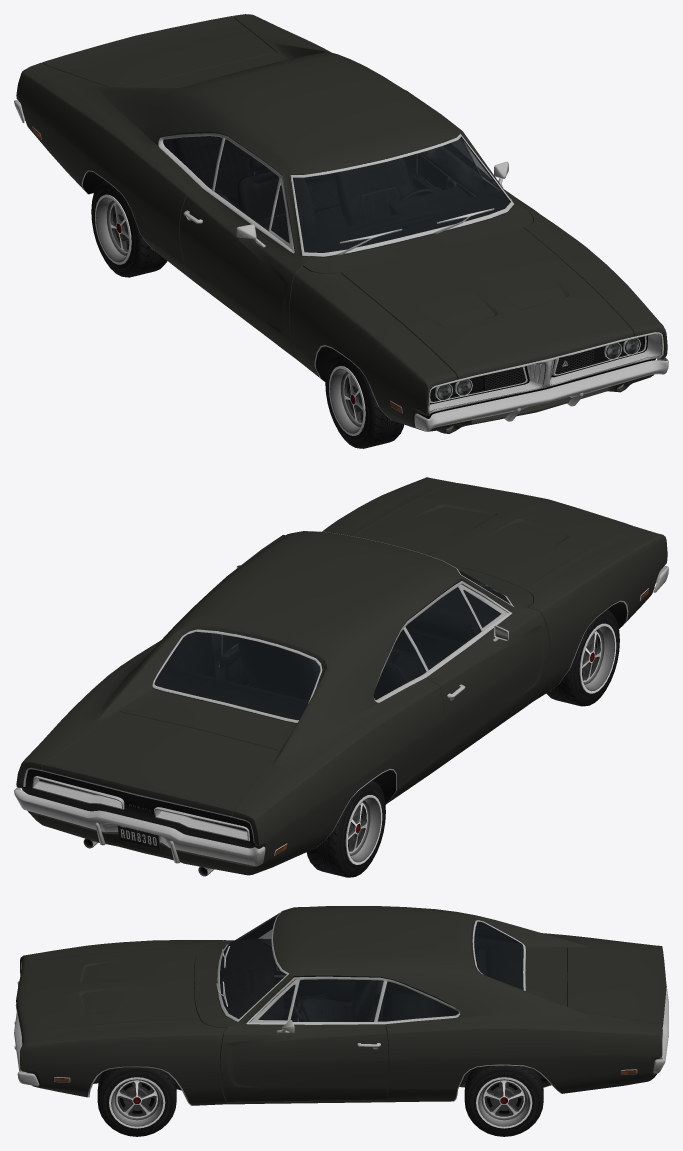
The model's file is dodge_charger_69.glb.
3 views of the same model, one above another, from view 1: azimuth 30°, elevation 25°; view 2: azimuth 150°, elevation 25°; view 3: azimuth 270°, elevation 25° (orthographic). The views are drawn at different scales.
Visible parts, largest first — view 1: Duke69_Body_Duke69_bodymat_0, Duke69_Hood_Duke69_bodymat_0, Duke69_Interior_UCB_Interiors_2_0, Duke69_Windshield_UCB_Lights_and_Glass_Transperent_0, Duke69_Bottom_UCB_BOTTOM_LT_0, Duke69_Trunkdoor_Duke69_bodymat_0, Duke69_WhellStock_FR_RB1c_Tire_1k_0, Duke69_Bumper_Front_UCB_BOTTOM_LT_0, Duke69_WhellStock_RR_RB1c_Tire_1k_0, Duke69_Glass_Passenger_UCB_Lights_and_Glass_Transperent_0, Duke69_Body_Glass_UCB_Lights_and_Glass_Transperent_0, Duke69_Headlights_Glass_UCB_Lights_and_Glass_0; view 2: Duke69_Body_Duke69_bodymat_0, Duke69_Hood_Duke69_bodymat_0, Duke69_Interior_UCB_Interiors_2_0, Duke69_Trunkdoor_Duke69_bodymat_0, Duke69_Bottom_UCB_BOTTOM_LT_0, Duke69_Rear_Glass_UCB_Lights_and_Glass_Transperent_0, Duke69_Bumper_Rear_UCB_BOTTOM_LT_0, Duke69_WhellStock_RR_RB1c_Tire_1k_0, Duke69_WhellStock_FR_RB1c_Tire_1k_0, Duke69_Glass_Passenger_UCB_Lights_and_Glass_Transperent_0, Duke69_Body_Glass_UCB_Lights_and_Glass_Transperent_0, Duke69_Numberplate_rear_Numberplates_Misk_U_0; view 3: Duke69_Body_Duke69_bodymat_0, Duke69_Hood_Duke69_bodymat_0, Duke69_Interior_UCB_Interiors_2_0, Duke69_Trunkdoor_Duke69_bodymat_0, Duke69_WhellStock_RL_RB1c_Tire_1k_0, Duke69_WhellStock_FL_RB1c_Tire_1k_0, Duke69_Bottom_UCB_BOTTOM_LT_0, Duke69_Windshield_UCB_Lights_and_Glass_Transperent_0, Duke69_Glass_Driver_UCB_Lights_and_Glass_Transperent_0, Duke69_Body_Glass_UCB_Lights_and_Glass_Transperent_0, Duke69_Rear_Glass_UCB_Lights_and_Glass_Transperent_0, Duke69_Bumper_Front_UCB_BOTTOM_LT_0 (+1 smaller).
Part boxes in pixels (x1,y1,x2,y2): Duke69_Body_Duke69_bodymat_0: (16,14,667,433); Duke69_Hood_Duke69_bodymat_0: (341,228,633,379); Duke69_Interior_UCB_Interiors_2_0: (163,136,510,252); Duke69_Windshield_UCB_Lights_and_Glass_Transperent_0: (293,136,510,252); Duke69_Bottom_UCB_BOTTOM_LT_0: (32,126,663,430); Duke69_Trunkdoor_Duke69_bodymat_0: (42,16,276,87); Duke69_WhellStock_FR_RB1c_Tire_1k_0: (325,352,403,448); Duke69_Bumper_Front_UCB_BOTTOM_LT_0: (414,357,668,431); Duke69_WhellStock_RR_RB1c_Tire_1k_0: (91,180,167,277); Duke69_Glass_Passenger_UCB_Lights_and_Glass_Transperent_0: (214,139,278,230); Duke69_Body_Glass_UCB_Lights_and_Glass_Transperent_0: (163,136,289,243); Duke69_Headlights_Glass_UCB_Lights_and_Glass_0: (437,338,639,399); Duke69_Body_Duke69_bodymat_0: (16,477,667,875); Duke69_Hood_Duke69_bodymat_0: (354,483,632,589); Duke69_Interior_UCB_Interiors_2_0: (154,586,509,719); Duke69_Trunkdoor_Duke69_bodymat_0: (42,712,276,816); Duke69_Bottom_UCB_BOTTOM_LT_0: (23,531,648,876); Duke69_Rear_Glass_UCB_Lights_and_Glass_Transperent_0: (154,631,320,720); Duke69_Bumper_Rear_UCB_BOTTOM_LT_0: (14,787,265,866); Duke69_WhellStock_RR_RB1c_Tire_1k_0: (306,780,385,877); Duke69_WhellStock_FR_RB1c_Tire_1k_0: (546,609,619,706); Duke69_Glass_Passenger_UCB_Lights_and_Glass_Transperent_0: (405,587,481,669); Duke69_Body_Glass_UCB_Lights_and_Glass_Transperent_0: (373,590,501,699); Duke69_Numberplate_rear_Numberplates_Misk_U_0: (117,825,160,851); Duke69_Body_Duke69_bodymat_0: (20,906,662,1105); Duke69_Hood_Duke69_bodymat_0: (16,948,199,1035); Duke69_Interior_UCB_Interiors_2_0: (220,917,523,1021); Duke69_Trunkdoor_Duke69_bodymat_0: (567,948,666,1024); Duke69_WhellStock_RL_RB1c_Tire_1k_0: (464,1065,543,1136); Duke69_WhellStock_FL_RB1c_Tire_1k_0: (97,1067,176,1136); Duke69_Bottom_UCB_BOTTOM_LT_0: (15,911,637,1105); Duke69_Windshield_UCB_Lights_and_Glass_Transperent_0: (220,912,286,1018); Duke69_Glass_Driver_UCB_Lights_and_Glass_Transperent_0: (290,979,383,1021); Duke69_Body_Glass_UCB_Lights_and_Glass_Transperent_0: (258,981,458,1021); Duke69_Rear_Glass_UCB_Lights_and_Glass_Transperent_0: (474,921,523,989); Duke69_Bumper_Front_UCB_BOTTOM_LT_0: (14,981,39,1086).
Size of the model in its own units: 1.96 by 1.4 by 5.24.
9 materials, 8 textured.
